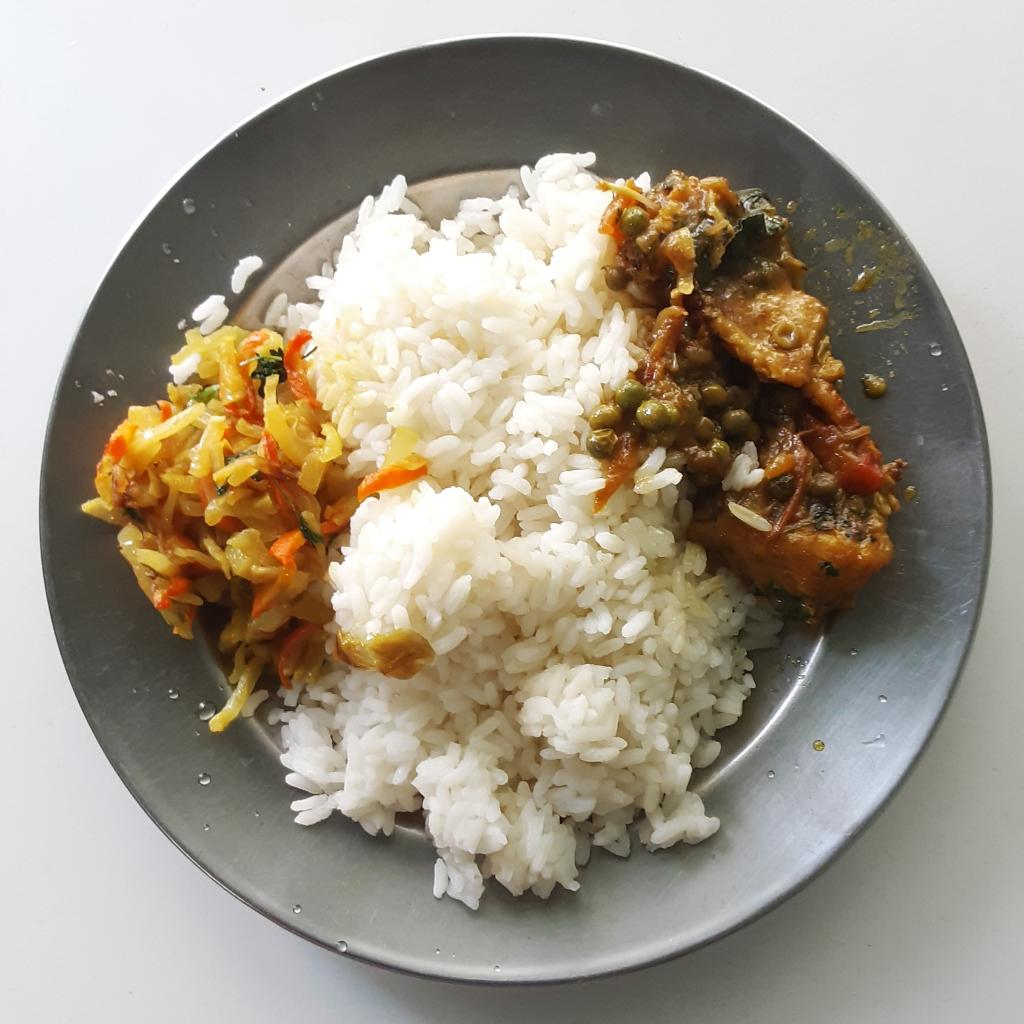fish: (608, 176, 907, 629)
green-pea: (590, 372, 755, 508)
rice: (243, 147, 787, 907)
vegetable: (79, 324, 429, 737)
